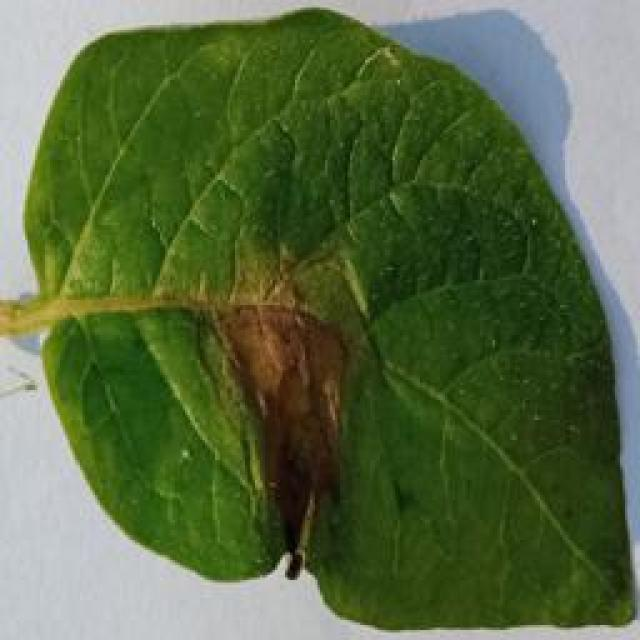Potato_Late_Blight: (16, 9, 624, 628)
